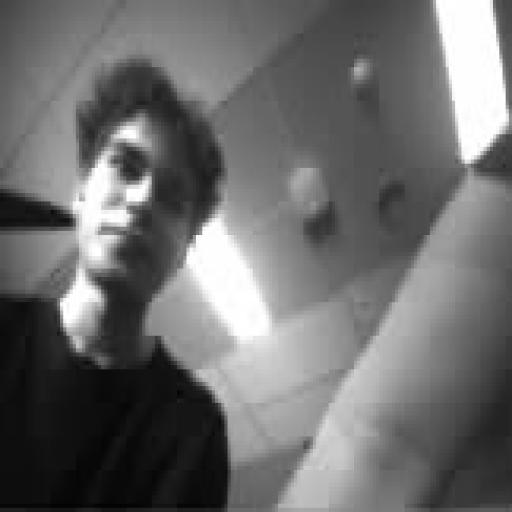human: (0, 55, 230, 507), (279, 131, 511, 511)
